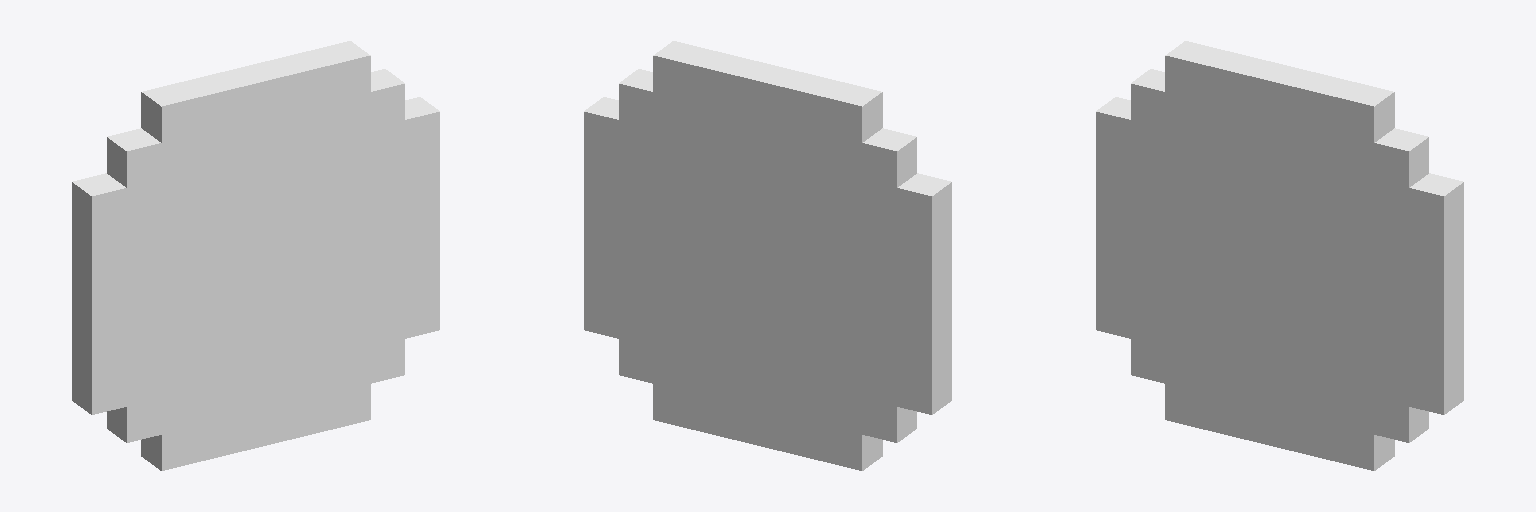
File: Clock.obj
3 renders of one model, left to right at view 1: azimuth 30°, elevation 25°; view 2: azimuth 150°, elevation 25°; view 3: azimuth 330°, elevation 25°, orthographic.
Visible parts, largest first — view 1: object 1; view 2: object 1; view 3: object 1.
Boxes of the visible parts, x1,y1,x2,y2 form: object 1: [72, 41, 439, 470]; object 1: [584, 41, 951, 470]; object 1: [1096, 41, 1463, 470].
Bounding box in the file's own units: 1 × 1 × 0.1.